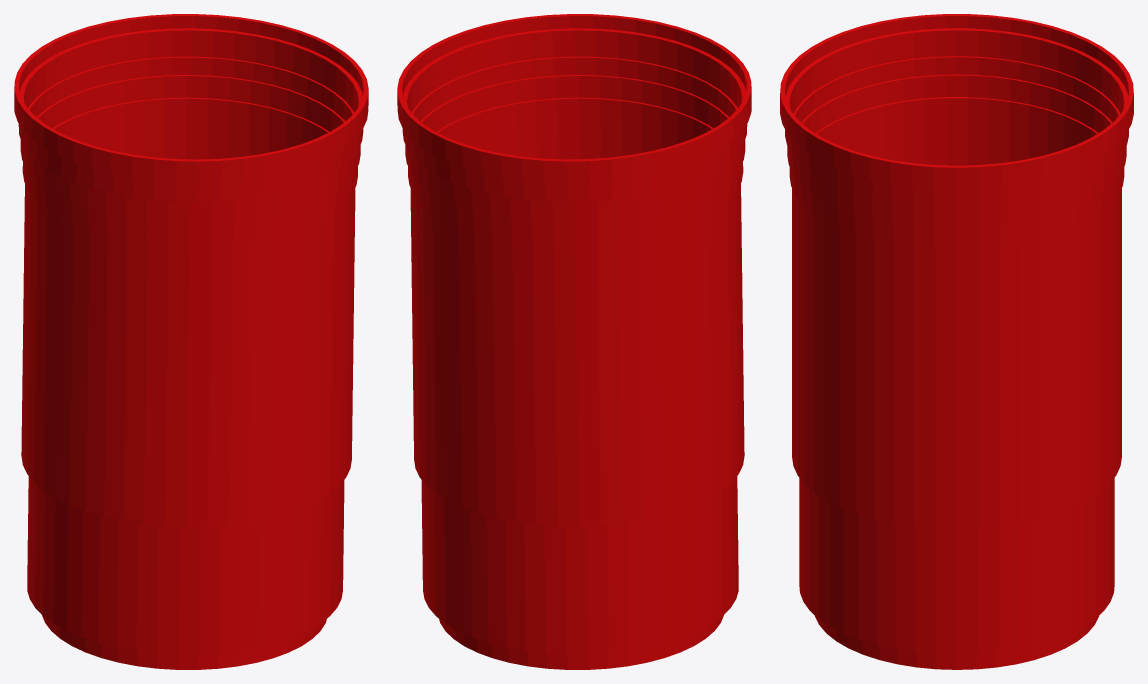
File: goblet.glb
3 views of the same model, side by side, from view 1: azimuth 30°, elevation 25°; view 2: azimuth 150°, elevation 25°; view 3: azimuth 270°, elevation 25° (orthographic).
Parts seen in each view (by area): view 1: goblet; view 2: goblet; view 3: goblet.
Boxes of the visible parts, x1,y1,x2,y2 form: goblet: [14, 14, 368, 669]; goblet: [397, 14, 751, 669]; goblet: [780, 14, 1133, 669].
Bounding box in the file's own units: 73.98 × 121 × 73.96.
